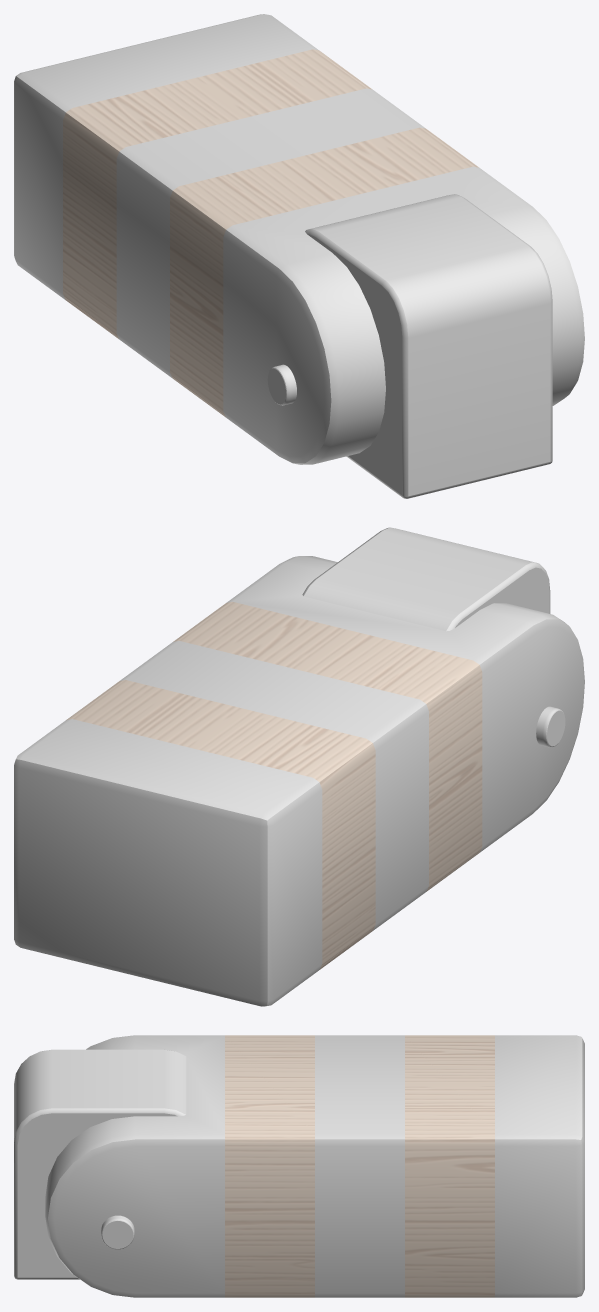
File: new_barrier 1.fbx
The picture shows the model from 3 angles, top to bottom: view 1: azimuth 30°, elevation 25°; view 2: azimuth 150°, elevation 25°; view 3: azimuth 270°, elevation 25°; orthographic projection. The views are drawn at different scales.
Parts seen in each view (by area): view 1: Cube.002, Gate.001, Peg; view 2: Cube.002, Gate.001, Peg; view 3: Cube.002, Gate.001, Peg.
Boxes of the visible parts, x1,y1,x2,y2 form: Cube.002: (14, 14, 584, 464); Gate.001: (305, 194, 552, 498); Peg: (267, 364, 296, 405); Cube.002: (14, 556, 584, 1006); Gate.001: (302, 527, 550, 631); Peg: (536, 706, 565, 747); Cube.002: (45, 1035, 584, 1297); Gate.001: (14, 1049, 186, 1279); Peg: (101, 1215, 134, 1249).
Bounding box in the file's own units: 151 × 105 × 317.
